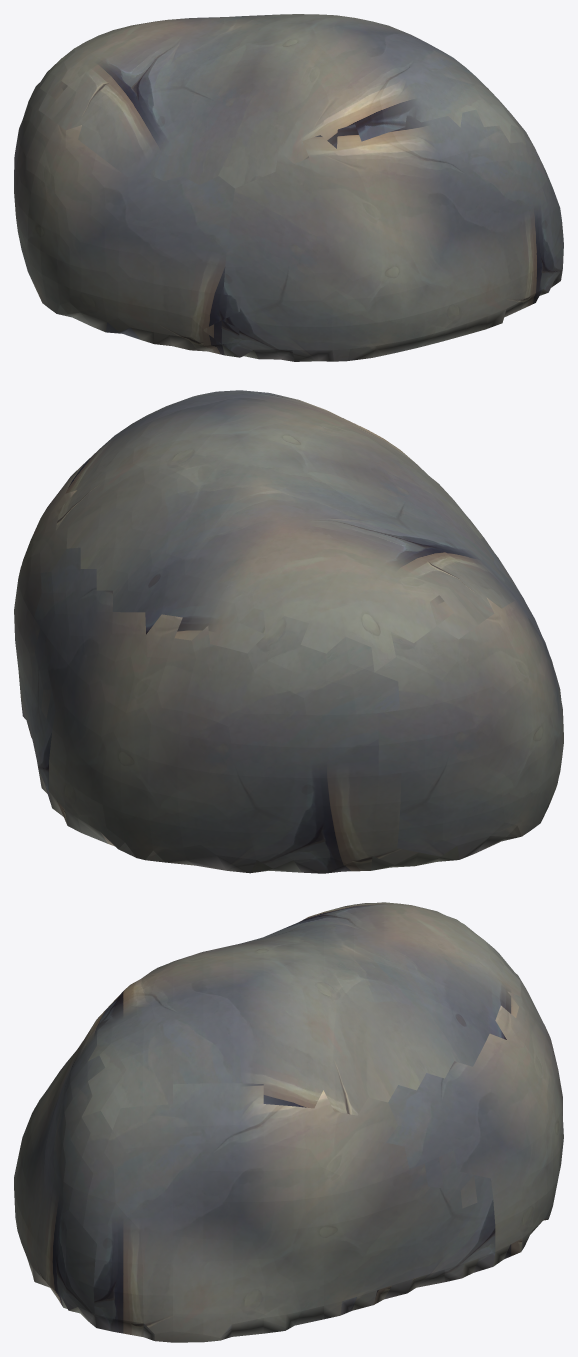
The model's file is boulder1.glb.
3 renders of one model, top to bottom at view 1: azimuth 30°, elevation 25°; view 2: azimuth 150°, elevation 25°; view 3: azimuth 270°, elevation 25°, orthographic. The views are drawn at different scales.
Parts seen in each view (by area): view 1: boulder1_stone_LOD0; view 2: boulder1_stone_LOD0; view 3: boulder1_stone_LOD0.
Part boxes in pixels (x1,y1,x2,y2): boulder1_stone_LOD0: (14,14,563,361); boulder1_stone_LOD0: (14,390,563,873); boulder1_stone_LOD0: (14,902,563,1342).
Size of what is drawn, in the model's own units: 2.45 by 1.28 by 2.3.
1 material, 1 textured.
